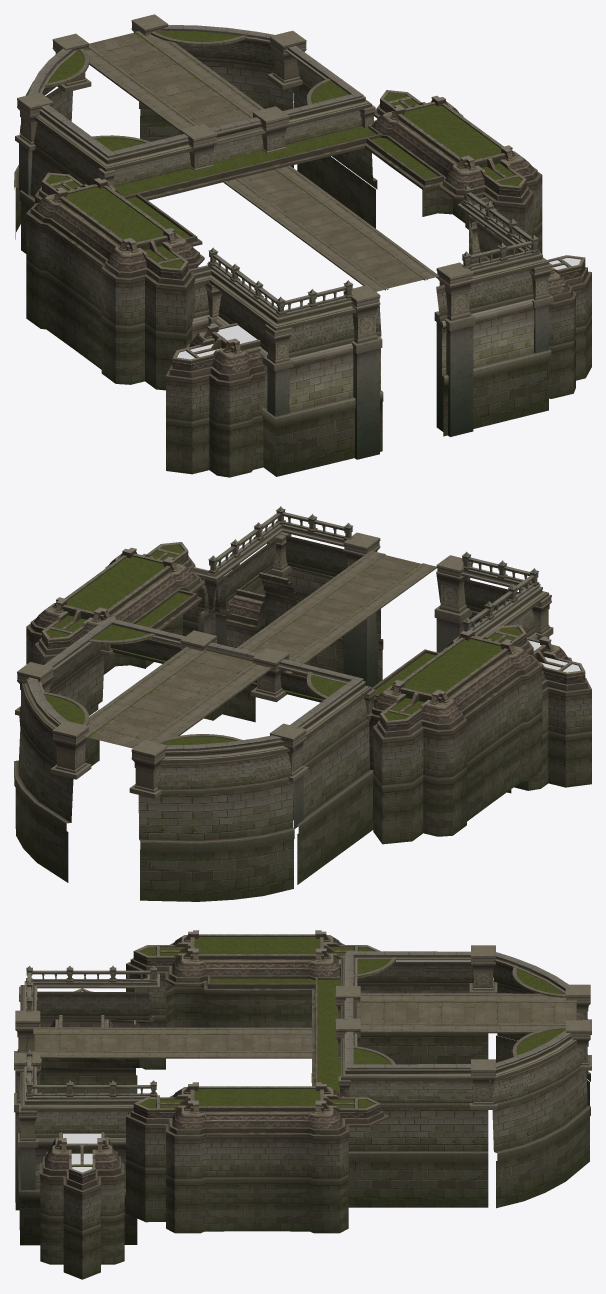
File: FB_03_jianzhu01.FBX
The picture shows the model from 3 angles, top to bottom: view 1: azimuth 30°, elevation 25°; view 2: azimuth 150°, elevation 25°; view 3: azimuth 270°, elevation 25°; orthographic projection. The views are drawn at different scales.
Visible parts, largest first — view 1: cs_fb_zhibei03, cs_FB_zawu02, cs_fb_dm02, cs_fb_water; view 2: cs_fb_zhibei03, cs_FB_zawu02, cs_fb_dm02; view 3: cs_fb_zhibei03, cs_FB_zawu02, cs_fb_dm02, cs_fb_water.
Boxes of the visible parts, left/top/right/bottom form: cs_fb_zhibei03: left=14, top=14, right=591, bottom=477; cs_FB_zawu02: left=26, top=31, right=591, bottom=385; cs_fb_dm02: left=46, top=30, right=522, bottom=268; cs_fb_water: left=177, top=258, right=580, bottom=359; cs_fb_zhibei03: left=14, top=506, right=591, bottom=901; cs_FB_zawu02: left=26, top=542, right=591, bottom=748; cs_fb_dm02: left=44, top=544, right=522, bottom=745; cs_fb_zhibei03: left=14, top=945, right=591, bottom=1279; cs_FB_zawu02: left=33, top=930, right=576, bottom=1194; cs_fb_dm02: left=139, top=937, right=565, bottom=1108; cs_fb_water: left=63, top=991, right=101, bottom=1172.
Bounding box in the file's own units: 5826 × 2492 × 7402.
3 materials, 3 textured.
